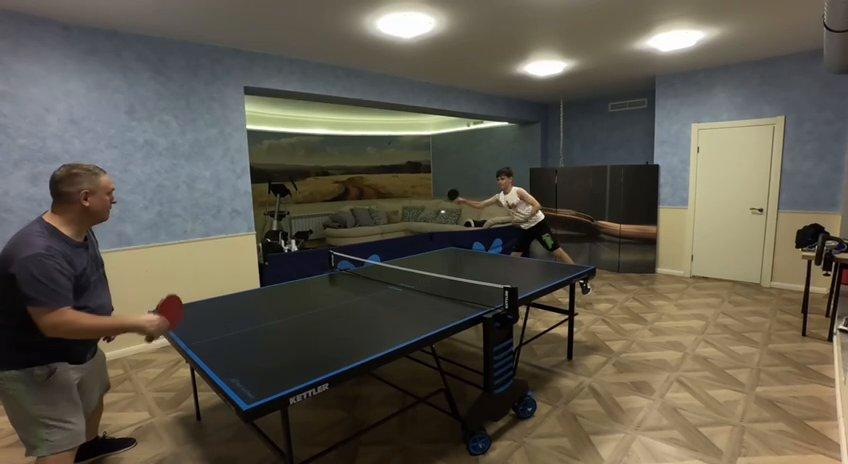Ball: (437, 209, 448, 215)
Net: (330, 251, 517, 317)
Player1: (482, 167, 564, 256)
Player2: (0, 164, 141, 450)
Table: (148, 247, 595, 410)
